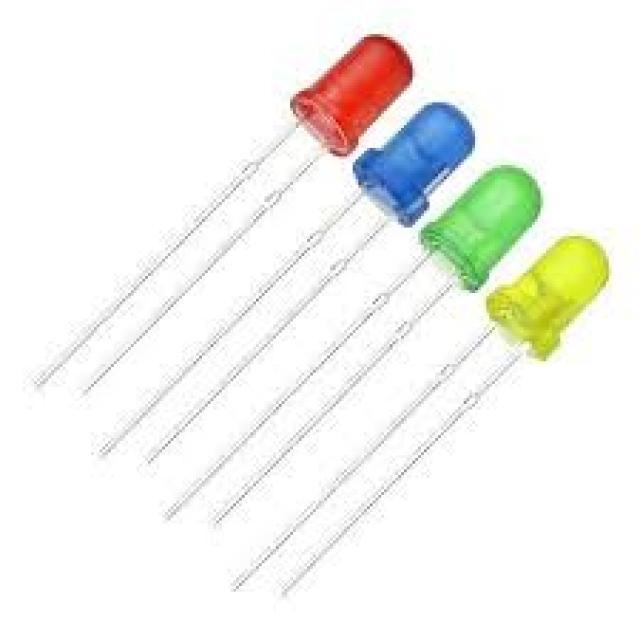Led: (198, 35, 412, 273), (252, 102, 474, 329), (316, 166, 541, 368), (422, 236, 609, 453)
